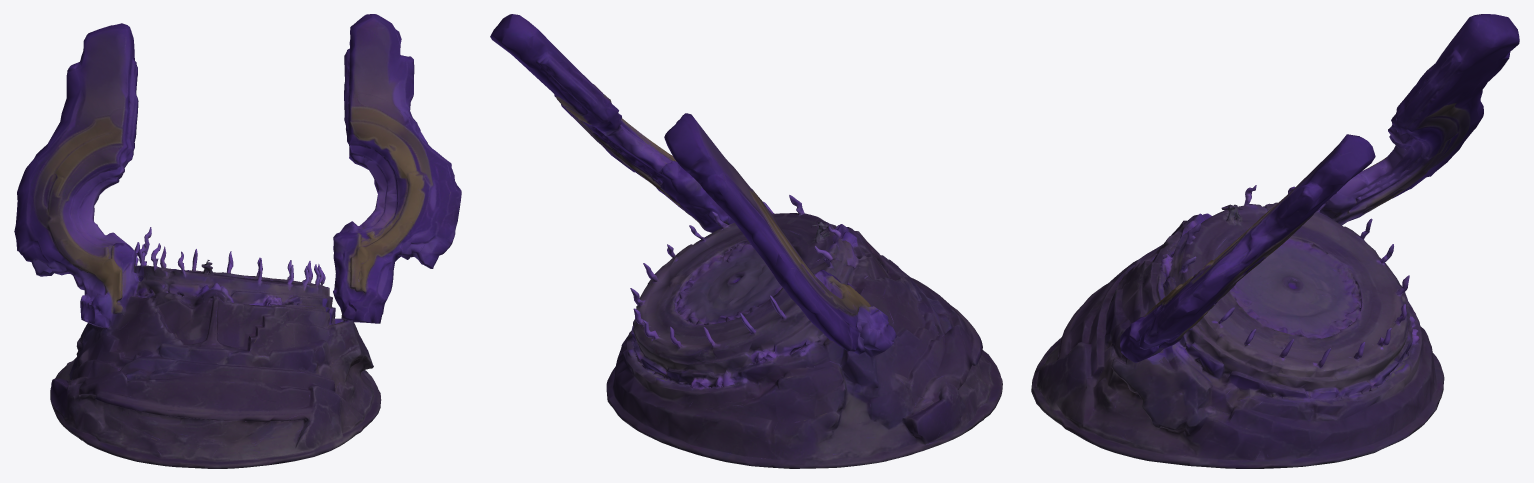
File: targon-peak-inclined.glb
3 renders of one model, left to right at view 1: azimuth 30°, elevation 25°; view 2: azimuth 150°, elevation 25°; view 3: azimuth 270°, elevation 25°, orthographic. The views are drawn at different scales.
Parts seen in each view (by area): view 1: Mesh1.0; view 2: Mesh1.0; view 3: Mesh1.0.
Boxes of the visible parts, box(x1,y1,x2,y2) form: Mesh1.0: box(14, 14, 461, 468); Mesh1.0: box(490, 14, 1002, 468); Mesh1.0: box(1031, 14, 1519, 468).
Size of the model in its own units: 1.9 by 1.48 by 1.77.
Materials: 1 (1 with a texture image).
